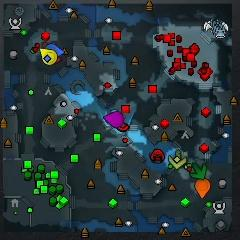p1: (45, 43, 65, 57)
p3: (104, 112, 125, 128)
p4: (39, 48, 57, 66)
p5: (195, 178, 211, 199)
x2: (168, 150, 186, 169)
x3: (110, 109, 117, 113)
x4: (190, 163, 207, 180)
x5: (42, 41, 55, 49)
